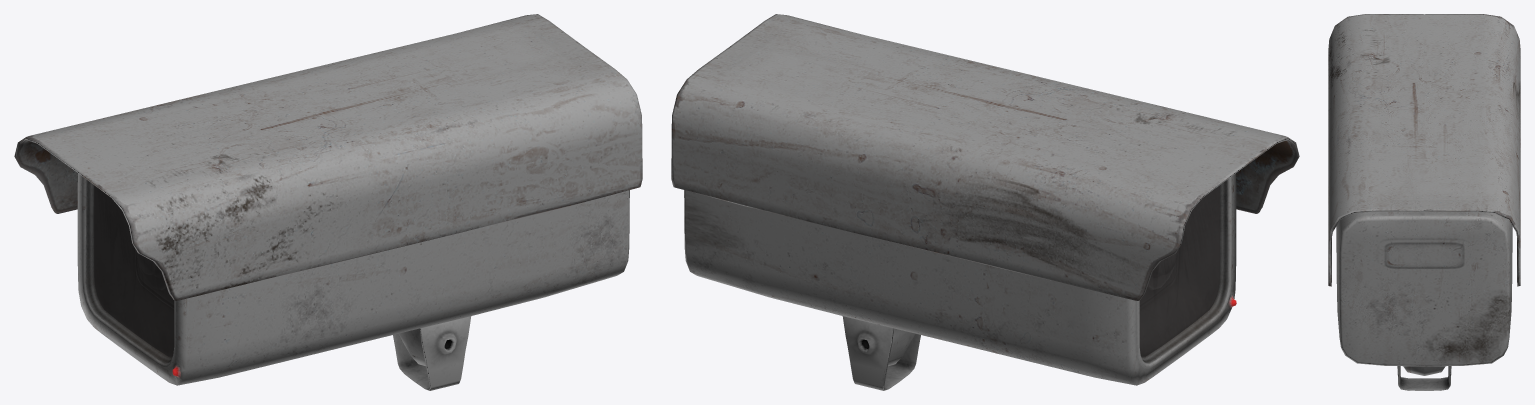
The model's file is camera.glb.
The picture shows the model from 3 angles, left to right: view 1: azimuth 30°, elevation 25°; view 2: azimuth 150°, elevation 25°; view 3: azimuth 270°, elevation 25°; orthographic projection. The views are drawn at different scales.
Visible parts, largest first — view 1: Object_2, Object_3; view 2: Object_2, Object_3; view 3: Object_2.
Part boxes in pixels (<box>): Object_2: <box>14,14,642,390</box>; Object_3: <box>93,185,174,356</box>; Object_2: <box>671,14,1299,390</box>; Object_3: <box>1139,185,1220,356</box>; Object_2: <box>1328,14,1520,390</box>.
Bounding box in the file's own units: 37.62 × 20.89 × 15.56.
Materials: 2 (2 with a texture image).
